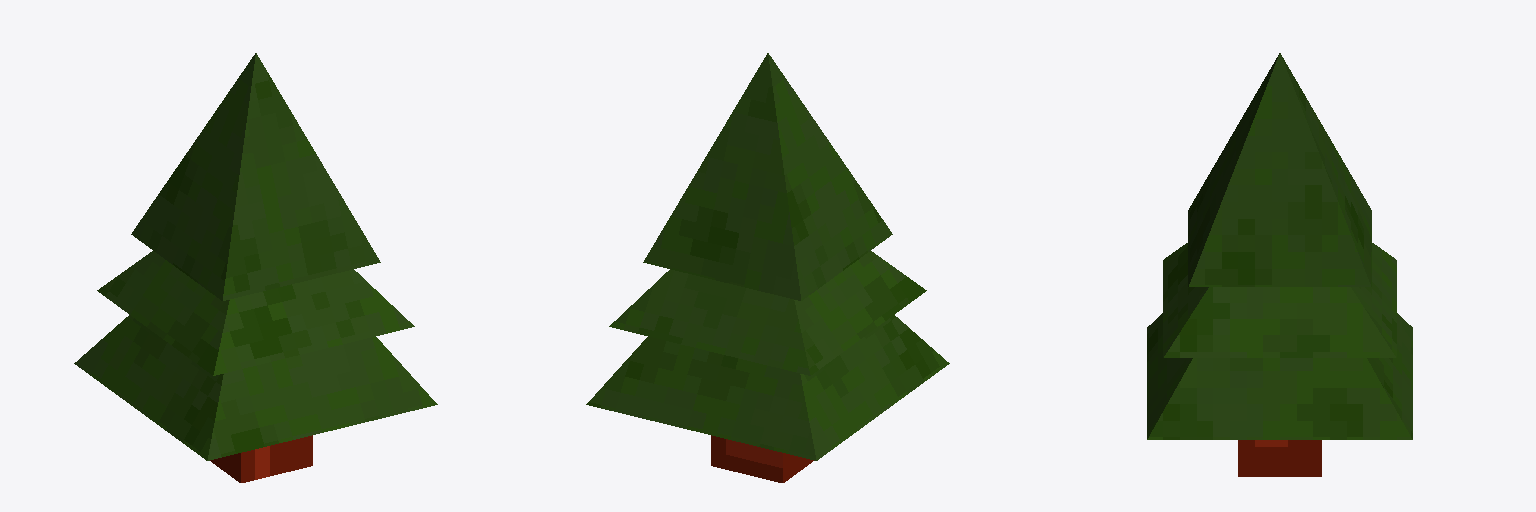
3 renders of one model, left to right at view 1: azimuth 30°, elevation 25°; view 2: azimuth 150°, elevation 25°; view 3: azimuth 270°, elevation 25°, orthographic.
Visible parts, largest first — view 1: cuboid; view 2: cuboid; view 3: cuboid.
Boxes of the visible parts, box(x1,y1,x2,y2) form: cuboid: box(74, 53, 437, 482); cuboid: box(586, 53, 949, 482); cuboid: box(1147, 53, 1412, 476).
Bounding box in the file's own units: 1 × 1.69 × 1.
Materials: 2 (2 with a texture image).